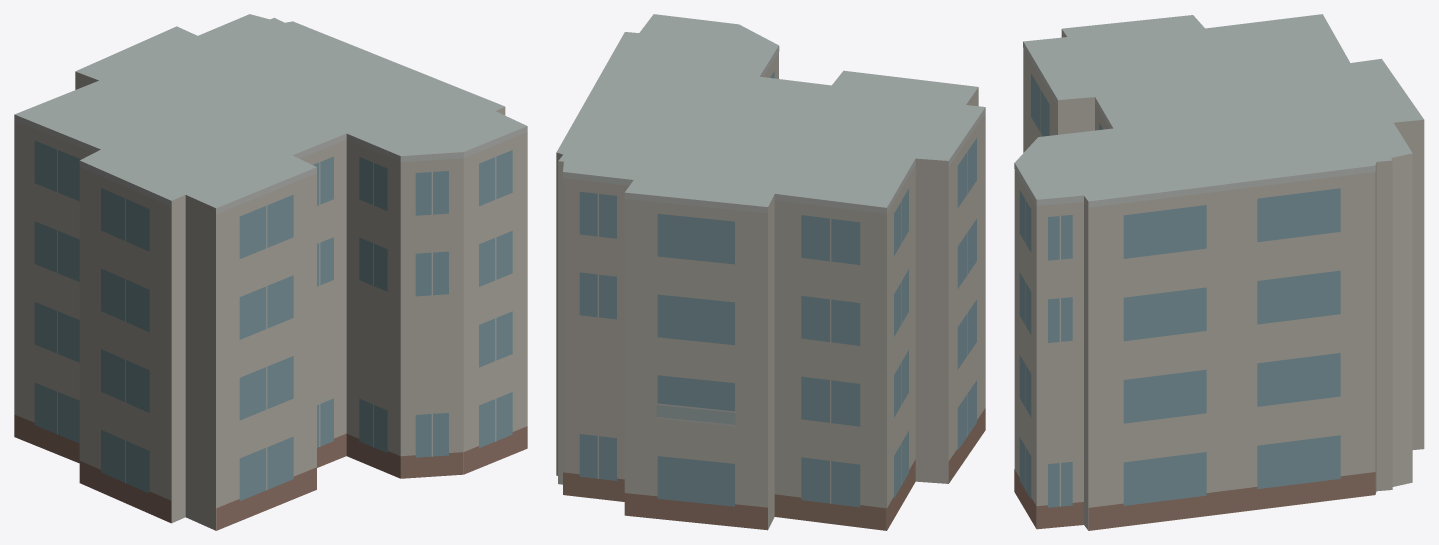
Rendered from survey-upis-32653704.glb.
The picture shows the model from 3 angles, left to right: view 1: azimuth 30°, elevation 25°; view 2: azimuth 150°, elevation 25°; view 3: azimuth 270°, elevation 25°; orthographic projection. The views are drawn at different scales.
Parts seen in each view (by area): view 1: survey-upis-32653704.tmp; view 2: survey-upis-32653704.tmp; view 3: survey-upis-32653704.tmp.
Boxes of the visible parts, left/top/right/bottom form: survey-upis-32653704.tmp: left=14, top=14, right=527, bottom=530; survey-upis-32653704.tmp: left=556, top=14, right=985, bottom=530; survey-upis-32653704.tmp: left=1014, top=14, right=1424, bottom=530.
Bounding box in the file's own units: 15.64 × 12.8 × 14.44.
